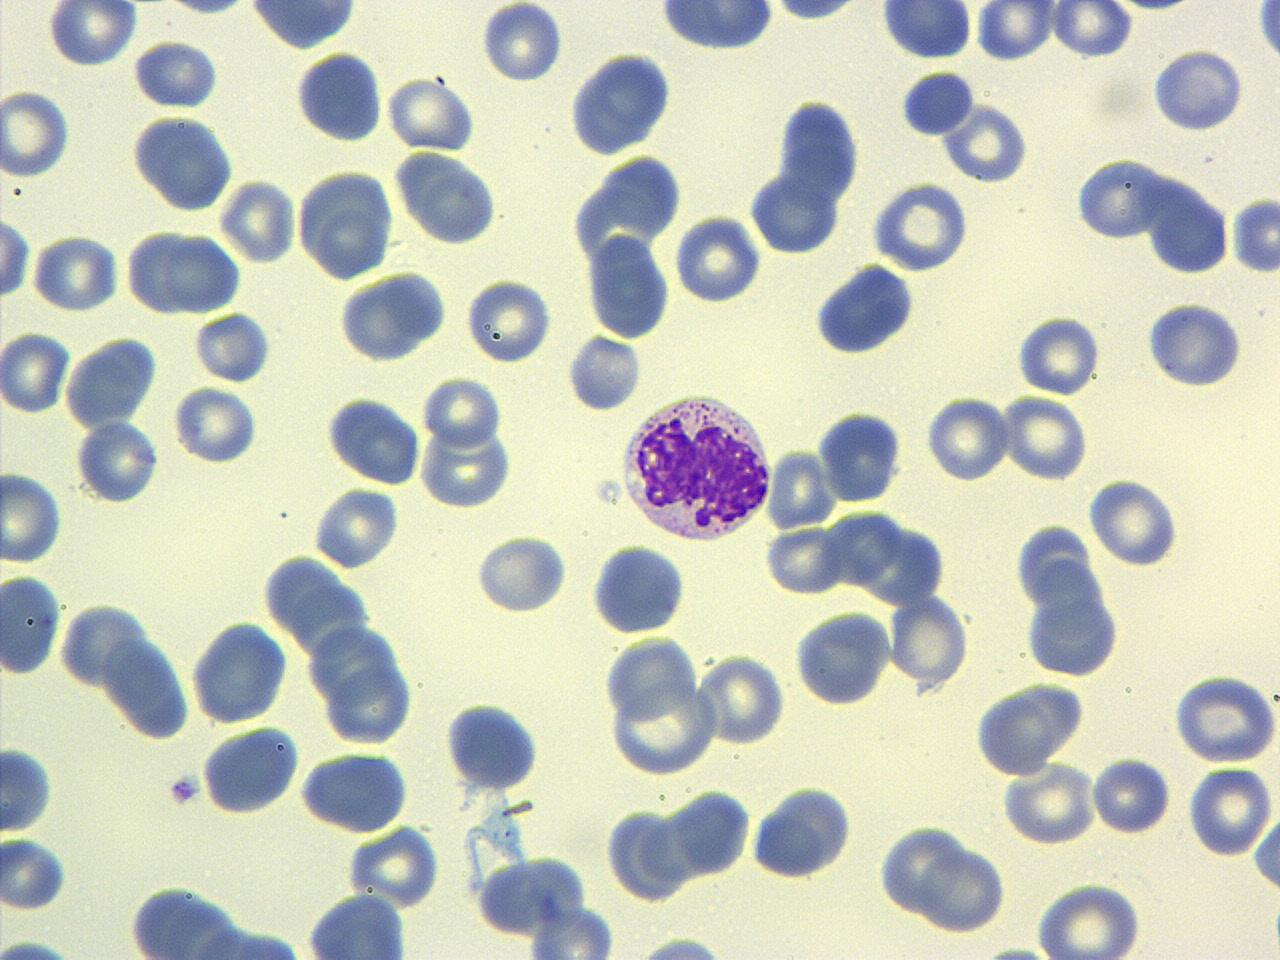Platelets: (476, 528, 572, 615), (479, 2, 566, 84), (133, 39, 225, 110), (563, 332, 643, 412), (193, 311, 274, 382), (896, 69, 975, 137), (1, 834, 72, 910), (1, 742, 56, 837), (1230, 194, 1280, 277), (630, 934, 734, 960), (0, 937, 71, 960), (1254, 0, 1280, 62), (166, 770, 205, 807), (984, 941, 1044, 960), (1269, 902, 1280, 952)
RBC: (972, 678, 1085, 781), (608, 676, 719, 776), (393, 148, 501, 247), (791, 606, 893, 708), (1170, 670, 1278, 764), (322, 390, 424, 485), (868, 179, 971, 274), (585, 232, 673, 340), (695, 648, 788, 745), (1034, 878, 1144, 960), (814, 405, 905, 504), (671, 208, 761, 308), (1085, 475, 1181, 568), (1000, 760, 1099, 848), (473, 528, 572, 614), (1150, 44, 1246, 133), (463, 274, 553, 367), (1186, 762, 1274, 858), (1013, 309, 1105, 399), (747, 169, 841, 258), (1002, 389, 1090, 484), (1072, 153, 1164, 243), (1146, 182, 1232, 277), (888, 590, 974, 686), (918, 842, 1009, 932), (311, 483, 403, 571), (924, 390, 1012, 482), (325, 661, 415, 747), (671, 786, 754, 879), (940, 99, 1030, 185), (384, 72, 478, 152), (75, 419, 160, 505), (32, 231, 120, 315), (218, 175, 298, 266), (0, 569, 65, 677), (172, 384, 258, 465), (479, 2, 564, 83), (0, 85, 72, 179), (1090, 754, 1172, 836), (130, 37, 220, 110), (164, 231, 242, 315), (828, 505, 904, 591), (419, 372, 503, 449), (47, 0, 139, 69), (0, 468, 65, 564), (193, 310, 274, 383), (1, 329, 71, 414), (763, 524, 846, 596), (878, 0, 974, 61), (1, 834, 71, 912), (316, 210, 388, 281), (524, 906, 621, 958), (974, 1, 1055, 63), (1049, 0, 1135, 58), (1230, 193, 1280, 276), (0, 211, 31, 302)
WBC: (482, 0, 1230, 471), (616, 386, 776, 548), (566, 47, 678, 158), (972, 674, 1089, 778), (127, 112, 240, 215), (336, 266, 452, 366), (188, 616, 292, 726), (749, 781, 859, 882), (772, 93, 866, 209), (811, 258, 920, 358), (393, 146, 500, 247), (298, 744, 415, 836), (61, 331, 161, 433), (794, 606, 896, 706), (198, 724, 303, 820), (587, 541, 691, 636), (1142, 295, 1246, 391), (586, 230, 674, 341), (441, 698, 545, 792), (323, 391, 422, 486), (292, 48, 386, 147), (813, 406, 907, 504), (1022, 594, 1124, 678), (1148, 44, 1244, 133), (747, 170, 844, 257), (1070, 154, 1164, 243), (300, 890, 418, 960), (652, 0, 778, 53), (242, 0, 364, 52), (877, 2, 975, 62), (898, 66, 976, 139), (1252, 804, 1280, 906)
